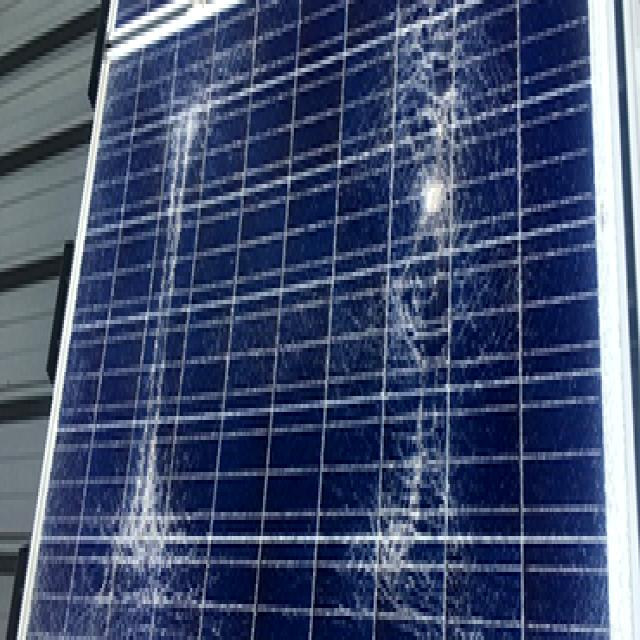hotspot: (391, 58, 483, 330), (352, 427, 464, 640), (102, 402, 193, 640), (158, 82, 214, 250)
